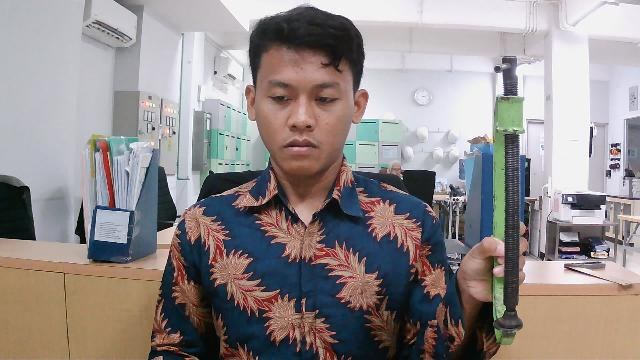tekiro_c_clamp: (481, 45, 531, 347)
